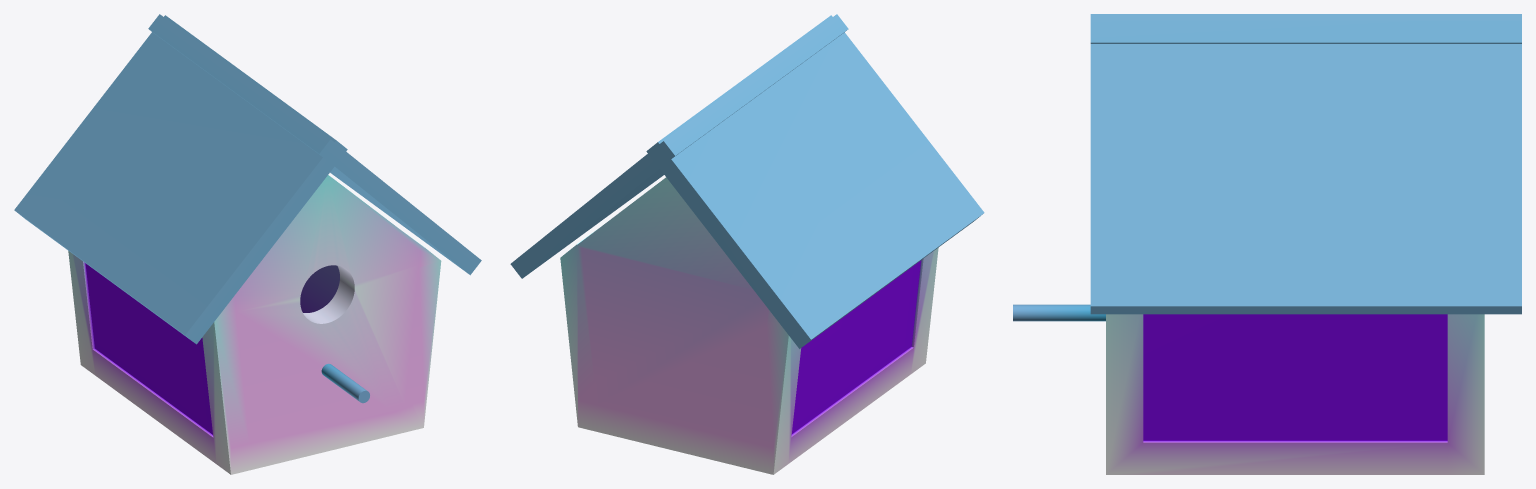
The picture shows the model from 3 angles, left to right: view 1: azimuth 30°, elevation 25°; view 2: azimuth 150°, elevation 25°; view 3: azimuth 270°, elevation 25°; orthographic projection. The views are drawn at different scales.
Parts seen in each view (by area): view 1: floor, roof, roof.001, perch; view 2: floor, roof, roof.001; view 3: roof.001, floor, roof, perch.
Part boxes in pixels (x1,y1,x2,y2): floor: [68, 175, 441, 474]; roof: [14, 15, 347, 344]; roof.001: [148, 14, 481, 275]; perch: [321, 363, 369, 403]; floor: [560, 177, 938, 474]; roof: [646, 15, 984, 348]; roof.001: [510, 14, 848, 278]; roof.001: [1090, 14, 1521, 314]; floor: [1106, 314, 1484, 474]; roof: [1090, 20, 1521, 43]; perch: [1013, 304, 1105, 321].
Bounding box in the file's own units: 0.2554 × 0.261 × 0.301.
